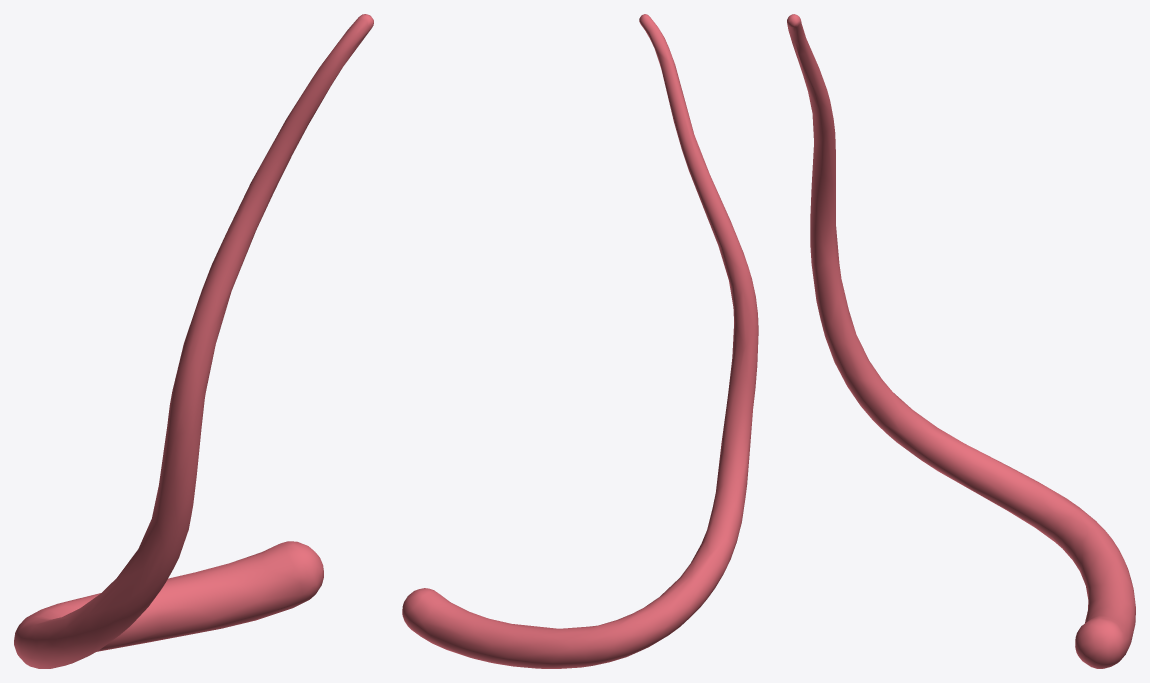
The model's file is fma50480_fj1669.glb.
3 views of the same model, side by side, from view 1: azimuth 30°, elevation 25°; view 2: azimuth 150°, elevation 25°; view 3: azimuth 270°, elevation 25° (orthographic). The views are drawn at different scales.
Parts seen in each view (by area): view 1: FMA50480_FJ1669; view 2: FMA50480_FJ1669; view 3: FMA50480_FJ1669.
Boxes of the visible parts, bbox=[...] form: FMA50480_FJ1669: bbox=[14, 14, 373, 668]; FMA50480_FJ1669: bbox=[402, 14, 758, 668]; FMA50480_FJ1669: bbox=[787, 14, 1135, 668].
Bounding box in the file's own units: 0.0114 × 0.0233 × 0.012.
